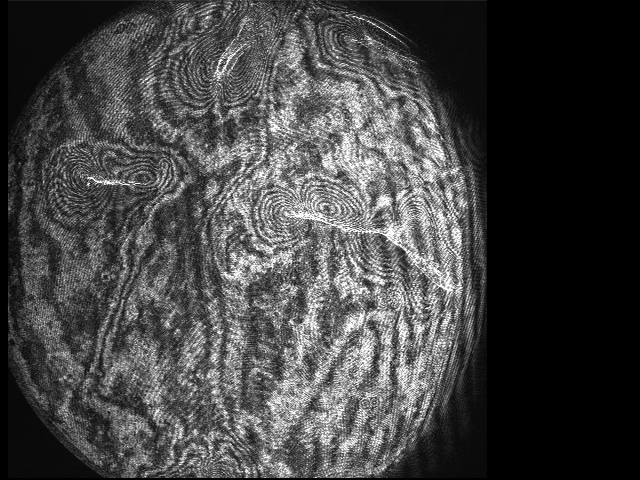plume: (168, 23, 286, 115), (243, 180, 367, 252), (49, 145, 179, 213)
